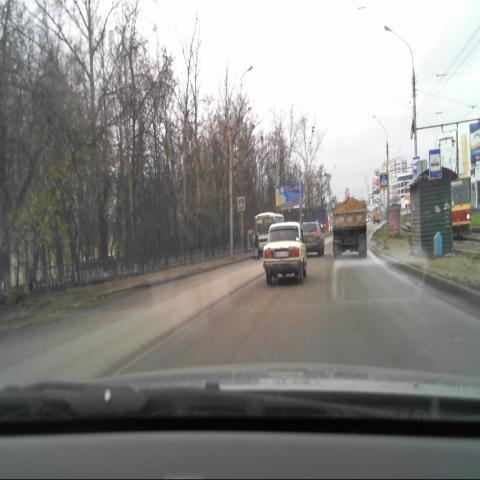5_17: (430, 150, 442, 178)
